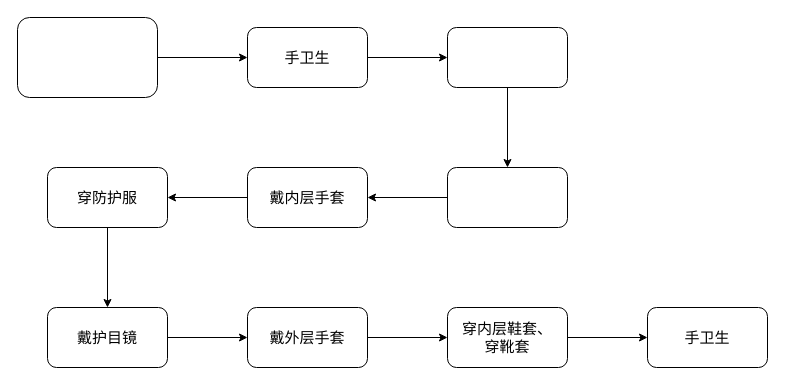
Image size: 785x385. Some labels were removed from this diagram. The centre of each missing label's shape, as x and y in pixels:
戴医用防护口罩: (x=507, y=57)
戴帽子: (x=507, y=197)
用品准备：一次性医用帽子、医用防护型口罩、防护服、护目镜、鞋套、靴套、手套、手消毒剂: (x=87, y=57)
